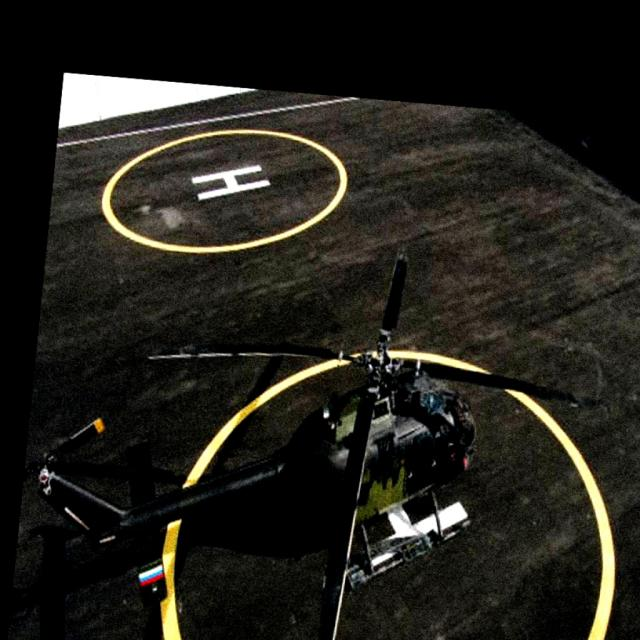helipad: (95, 125, 352, 256)
